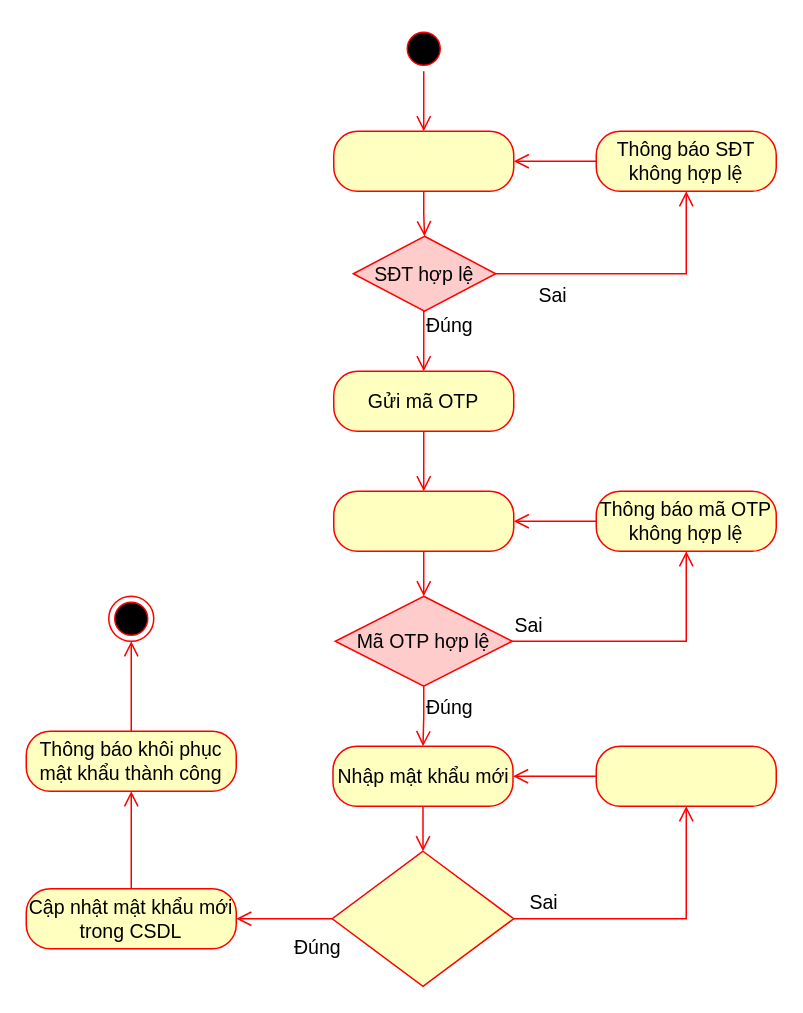
This 803x1013 diagram has some shape labels left out. The box of each missing label's shape, as (x1, y1, x2, y2) in pixels:
Mật khẩu hợp lệ: (331, 850, 514, 986)
Nhập mã OTP: (332, 490, 514, 551)
Nhập SĐT đã đăng ký: (332, 130, 514, 191)
Thông báo mật khẩu không hợp lệ: (595, 745, 776, 806)
